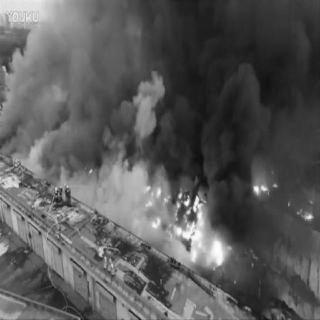Fire: (252, 159, 318, 231)
